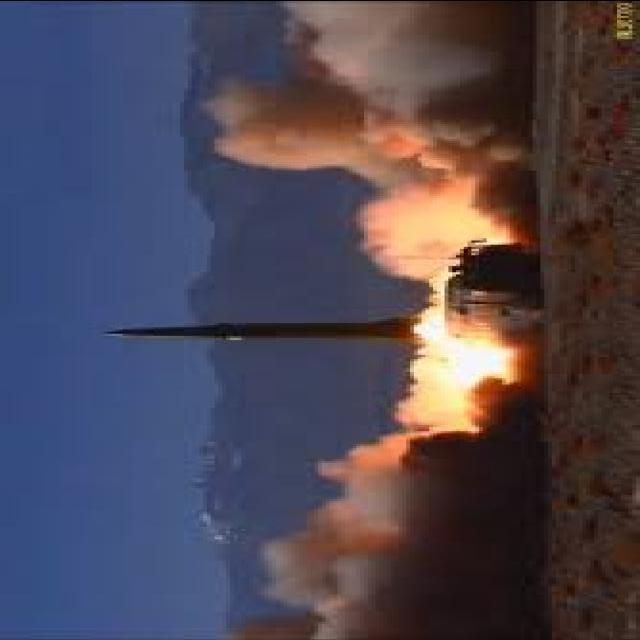missile: (103, 317, 438, 350)
